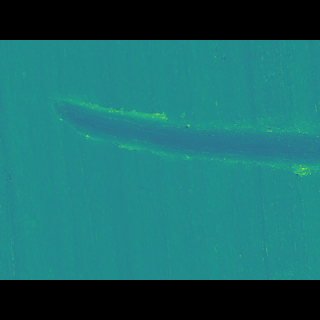Loch: (44, 109, 320, 173)
